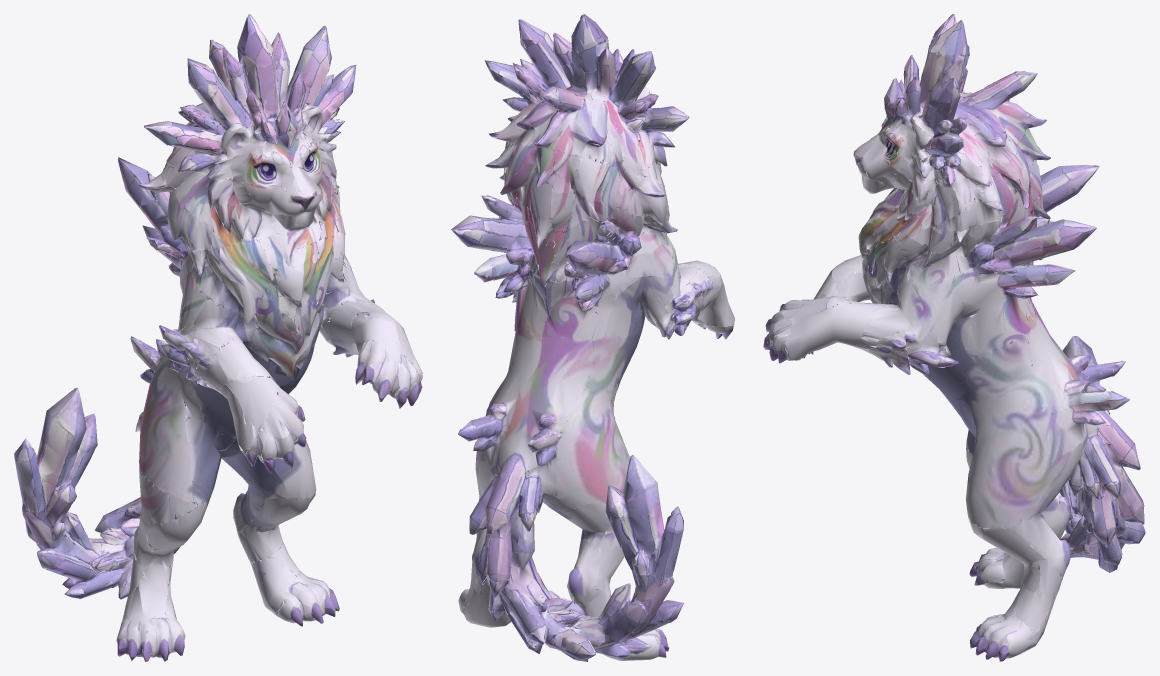
3 views of the same model, side by side, from view 1: azimuth 30°, elevation 25°; view 2: azimuth 150°, elevation 25°; view 3: azimuth 270°, elevation 25° (orthographic). The views are drawn at different scales.
Visible parts, largest first — view 1: Mesh_0; view 2: Mesh_0; view 3: Mesh_0.
Part boxes in pixels (left/top/right/bottom): Mesh_0: left=14, top=14, right=422, bottom=661; Mesh_0: left=451, top=14, right=734, bottom=661; Mesh_0: left=763, top=14, right=1145, bottom=661.
Bounding box in the file's own units: 0.8718 × 1.9 × 1.11.
1 material, 1 textured.
